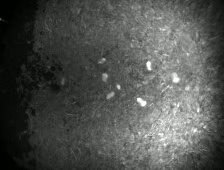corn: (168, 70, 182, 86), (134, 95, 149, 109), (104, 89, 117, 101), (99, 70, 110, 84), (144, 59, 154, 73), (96, 55, 108, 66), (59, 75, 66, 86), (114, 82, 122, 91)
